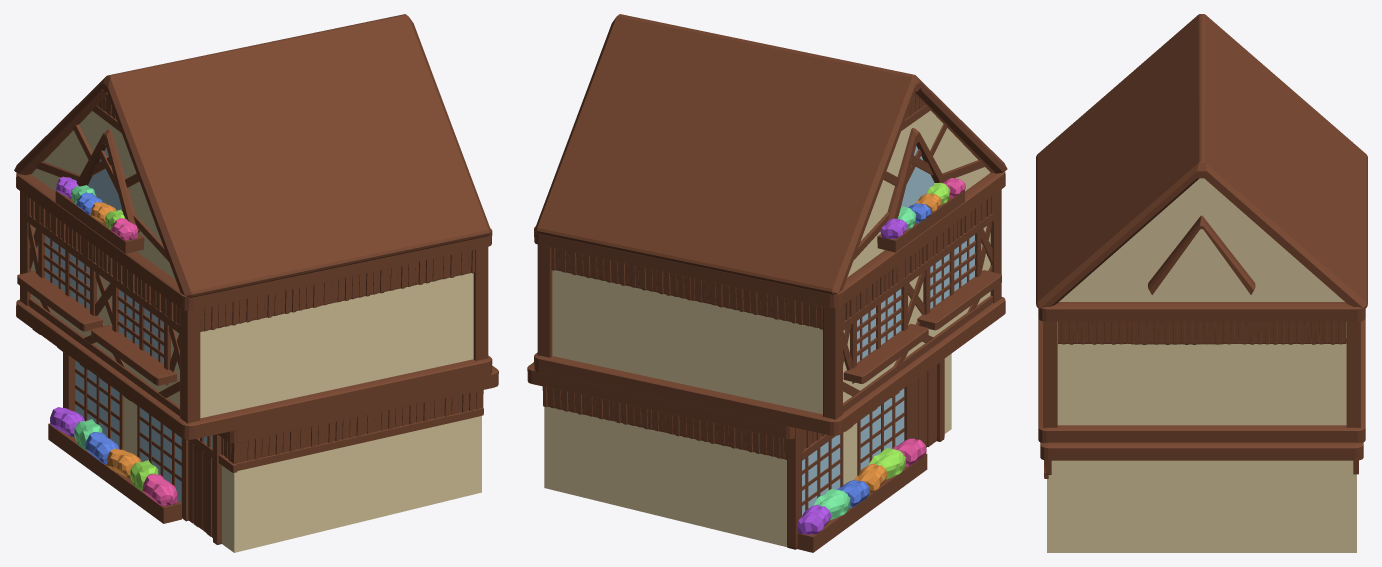
The model's file is house1.fbx.
3 renders of one model, left to right at view 1: azimuth 30°, elevation 25°; view 2: azimuth 150°, elevation 25°; view 3: azimuth 270°, elevation 25°, orthographic. The views are drawn at different scales.
Visible parts, largest first — view 1: Plane.001; view 2: Plane.001; view 3: Plane.001.
Part boxes in pixels (left/top/right/bottom): Plane.001: left=14, top=14, right=498, bottom=552; Plane.001: left=527, top=14, right=1007, bottom=552; Plane.001: left=1036, top=14, right=1367, bottom=552.
Bounding box in the file's own units: 3584 × 4449 × 3299.
